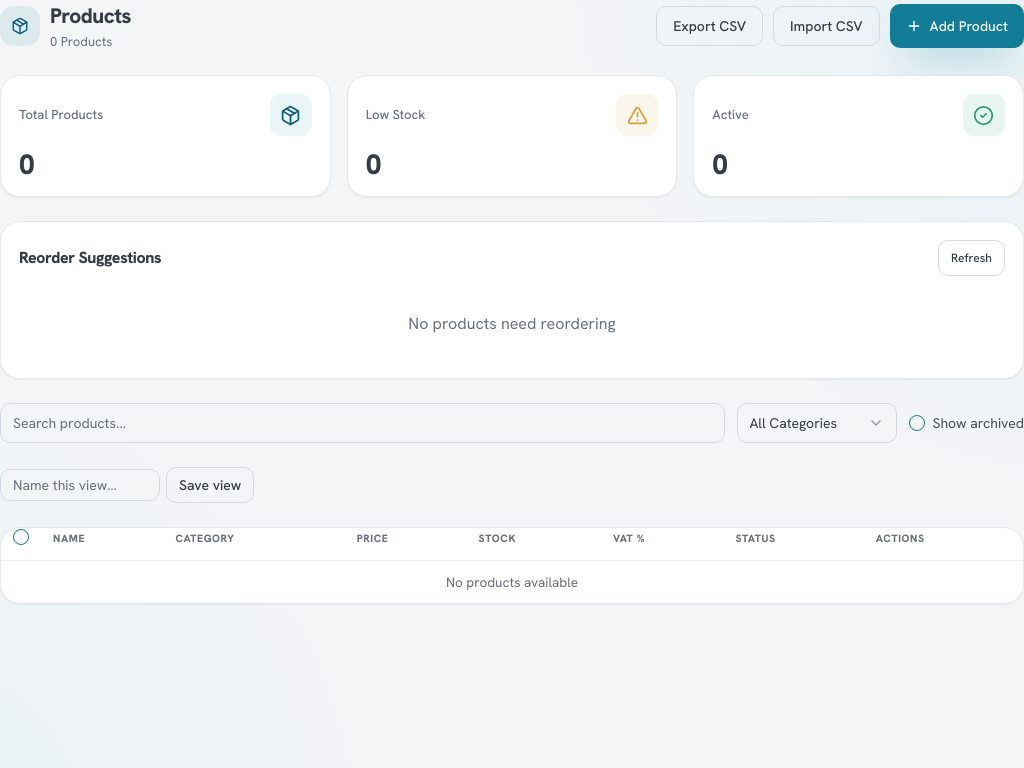
Test case: ProductManagement form field labelling (ISSUE-226 a11y) › exposes each product-form field by its visible label as accessible name
Open the "Add New Product" dialog.
Click the button "Add Product".
click(957, 26)  # box [890,4,1023,48]
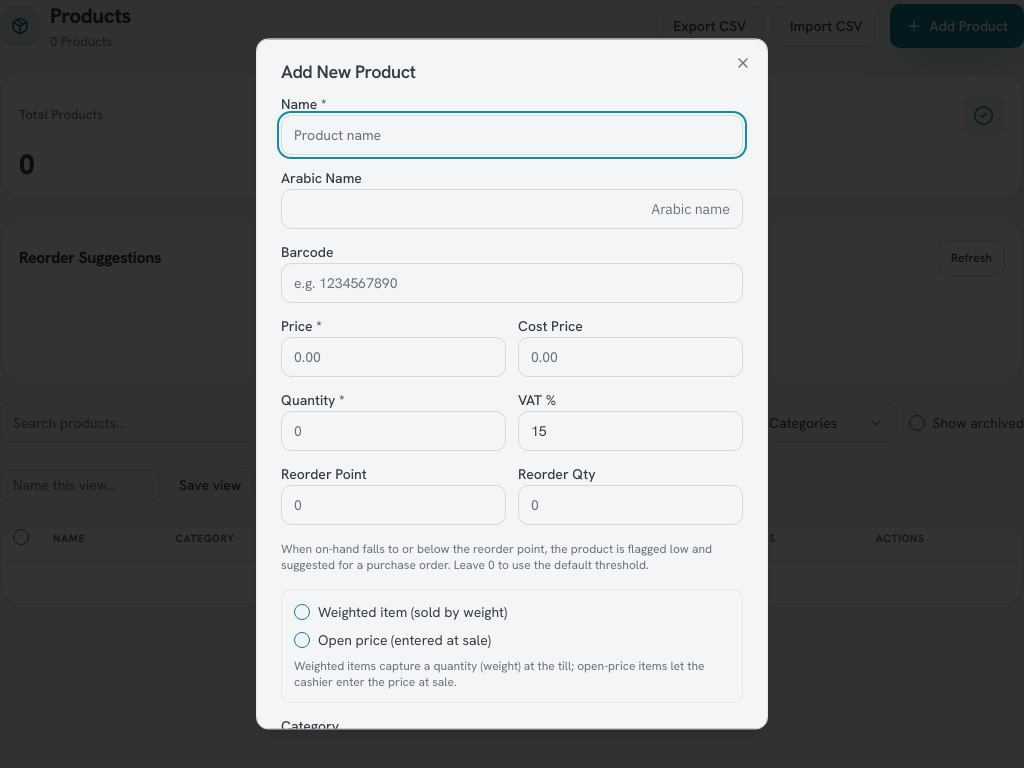
Result: the heading "Add New Product" is shown at [281,60,416,83]
